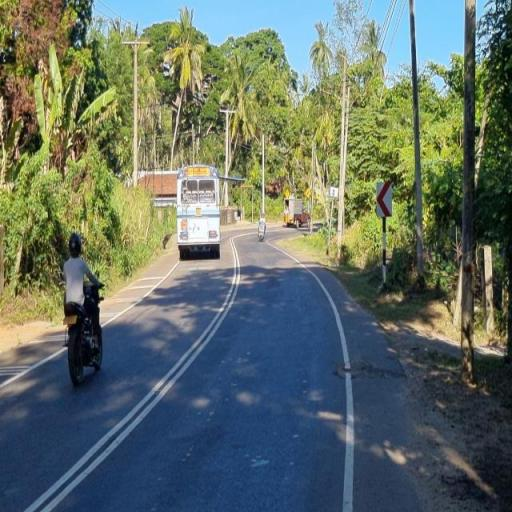double_white_line: (18, 230, 246, 511)
